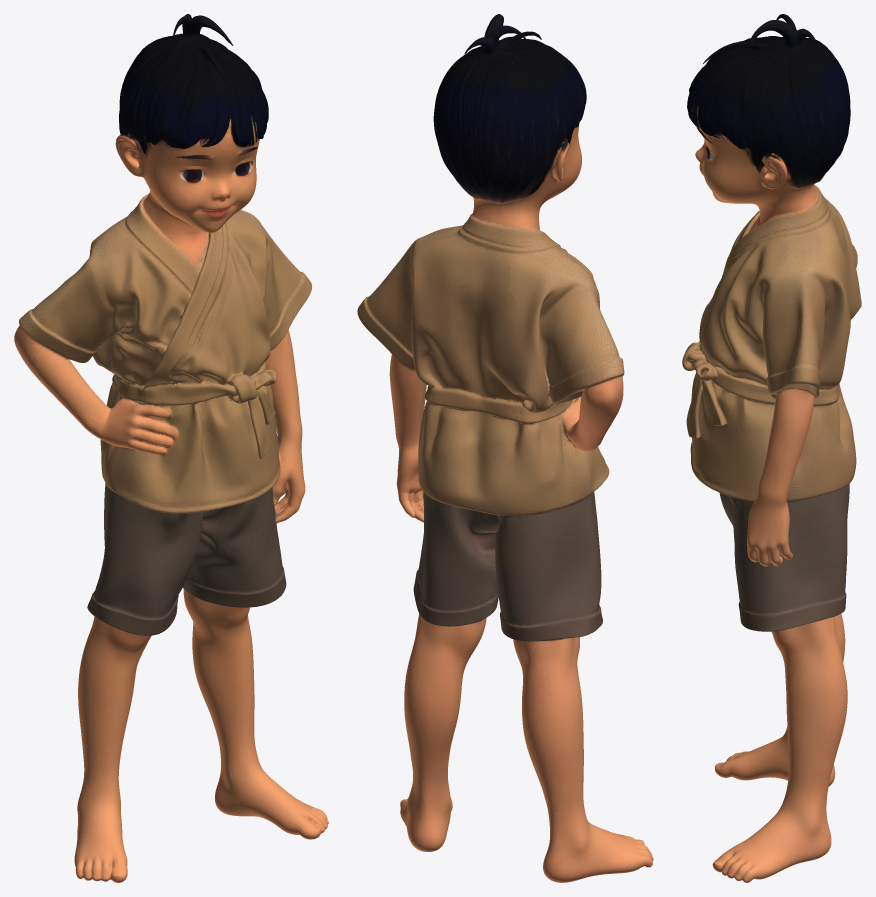
File: Villager_Child.glb
The picture shows the model from 3 angles, left to right: view 1: azimuth 30°, elevation 25°; view 2: azimuth 150°, elevation 25°; view 3: azimuth 270°, elevation 25°; orthographic projection. The views are drawn at different scales.
Bounding box in the file's own units: 0.6632 × 1.9 × 0.3799.
1 material, 1 textured.
